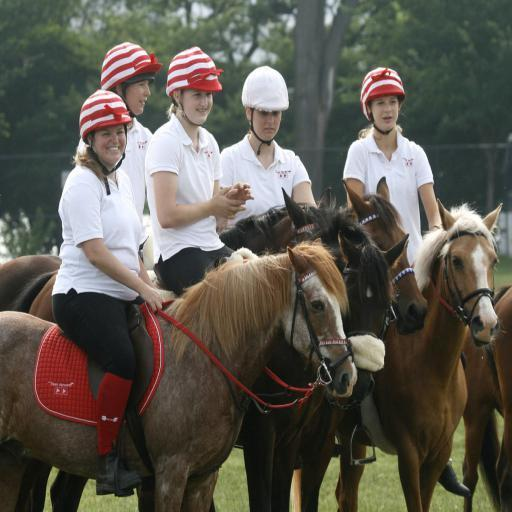horse: (0, 173, 511, 511)
